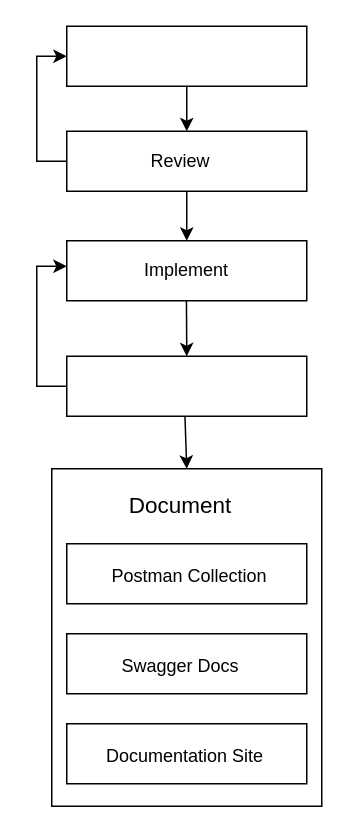
The diagram is 348 pixels wide and 833 high, and some of its shapes have lost their labels. The centre of each missing label's shape, as x and y in pixels:
API Spec: point 186,55
Test: point 186,385
